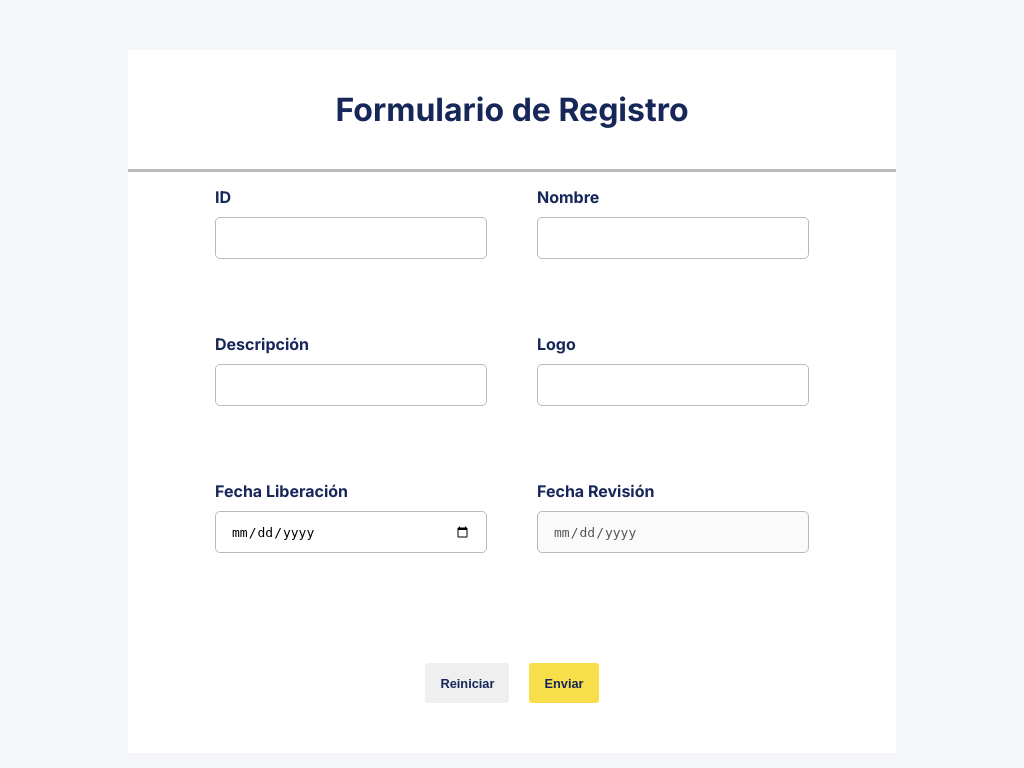
it: Create Products Page › Field name should display an error if value characthers are minor than 5
In the field labelled "Nombre": (673, 238) 537,217 -> 809,259, type "test"
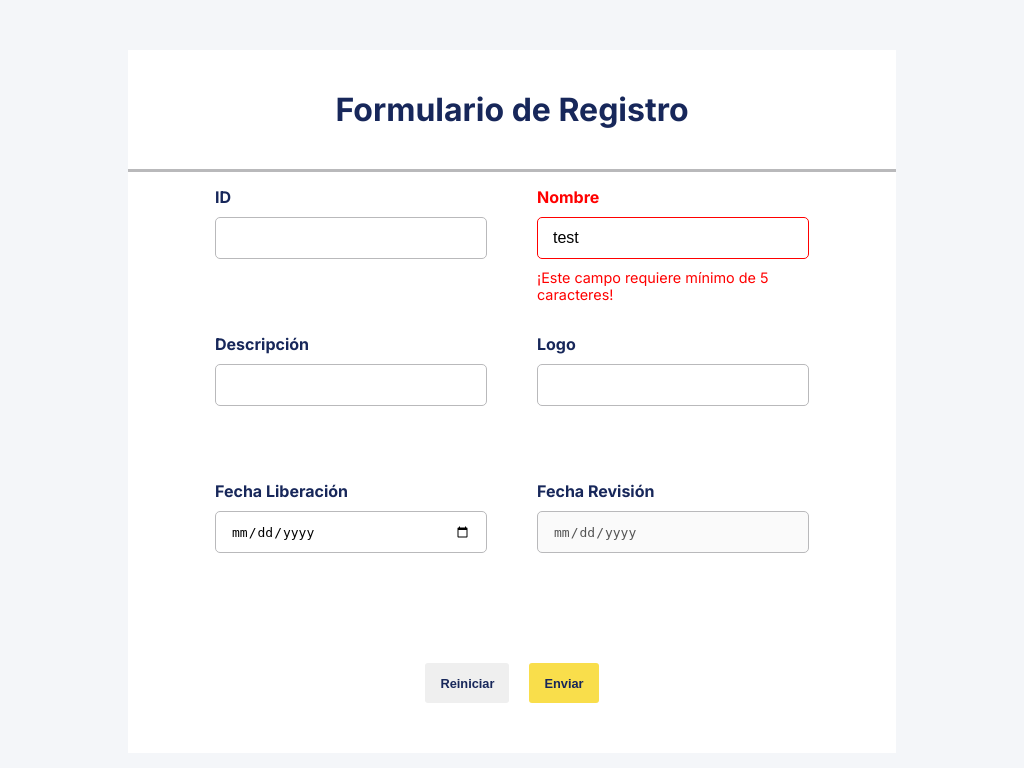
Check: the text "¡Este campo requiere mínimo de 5 caracteres!" is shown, box 537,269 -> 807,304
